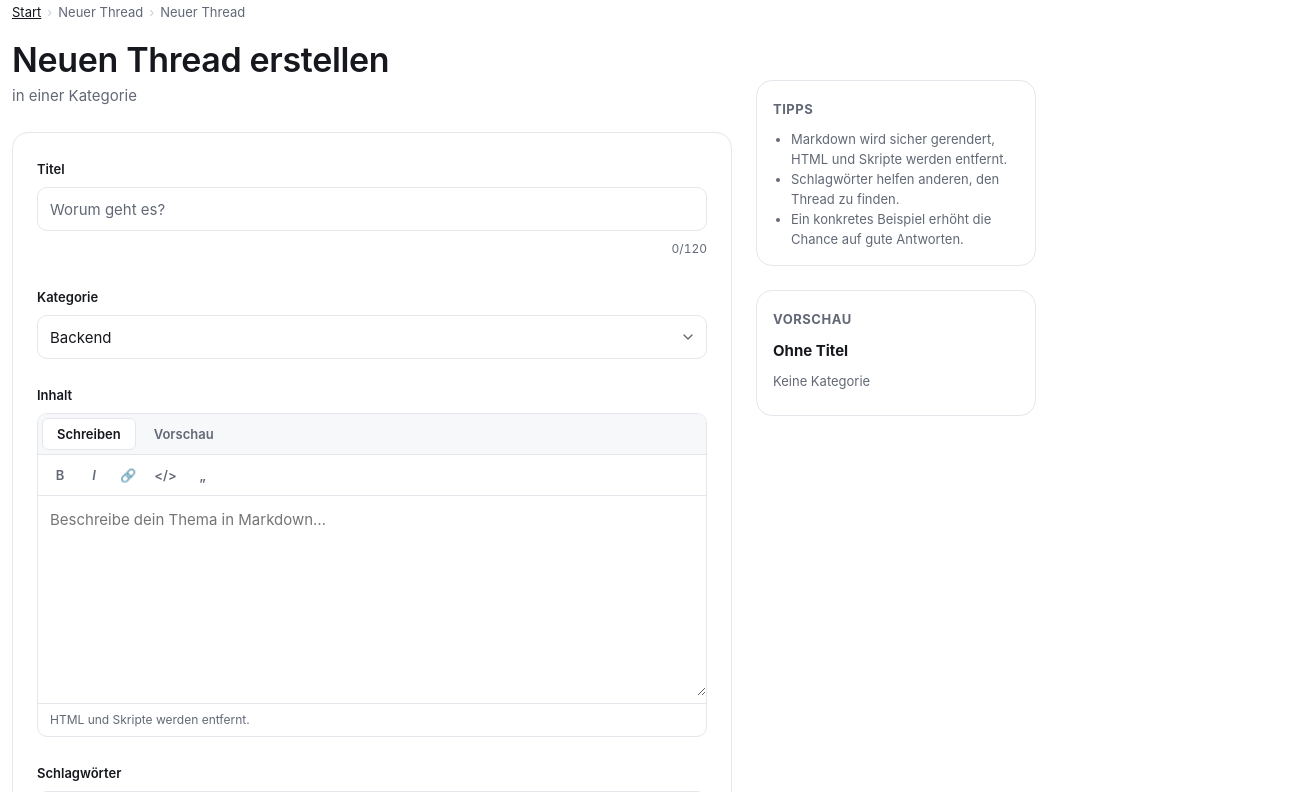
new thread composer › renders the entered markdown in the preview tab
Type "Hallo **Welt**" into the text box labelled "Inhalt" at (372, 596), box [38,496,706,696]
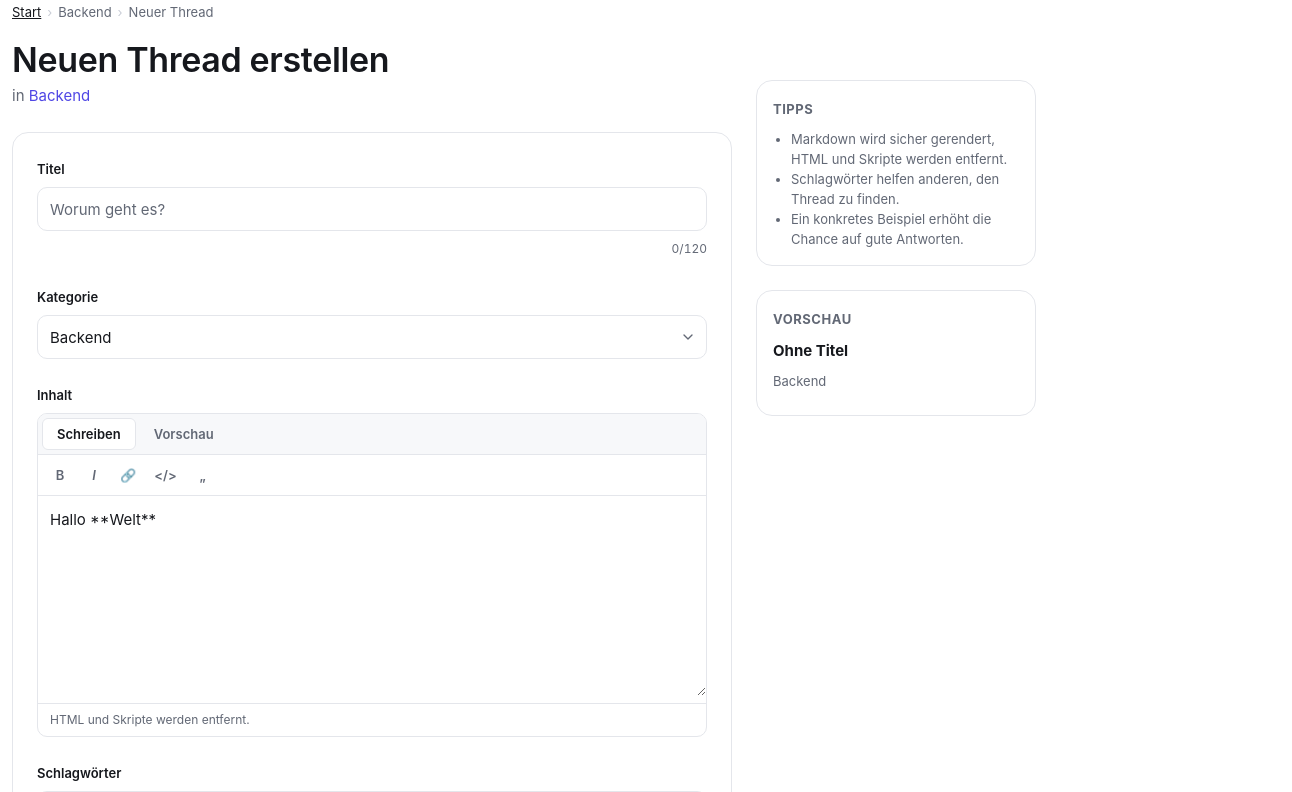
Click the tab "Vorschau" at (184, 434), box [140,418,228,450]
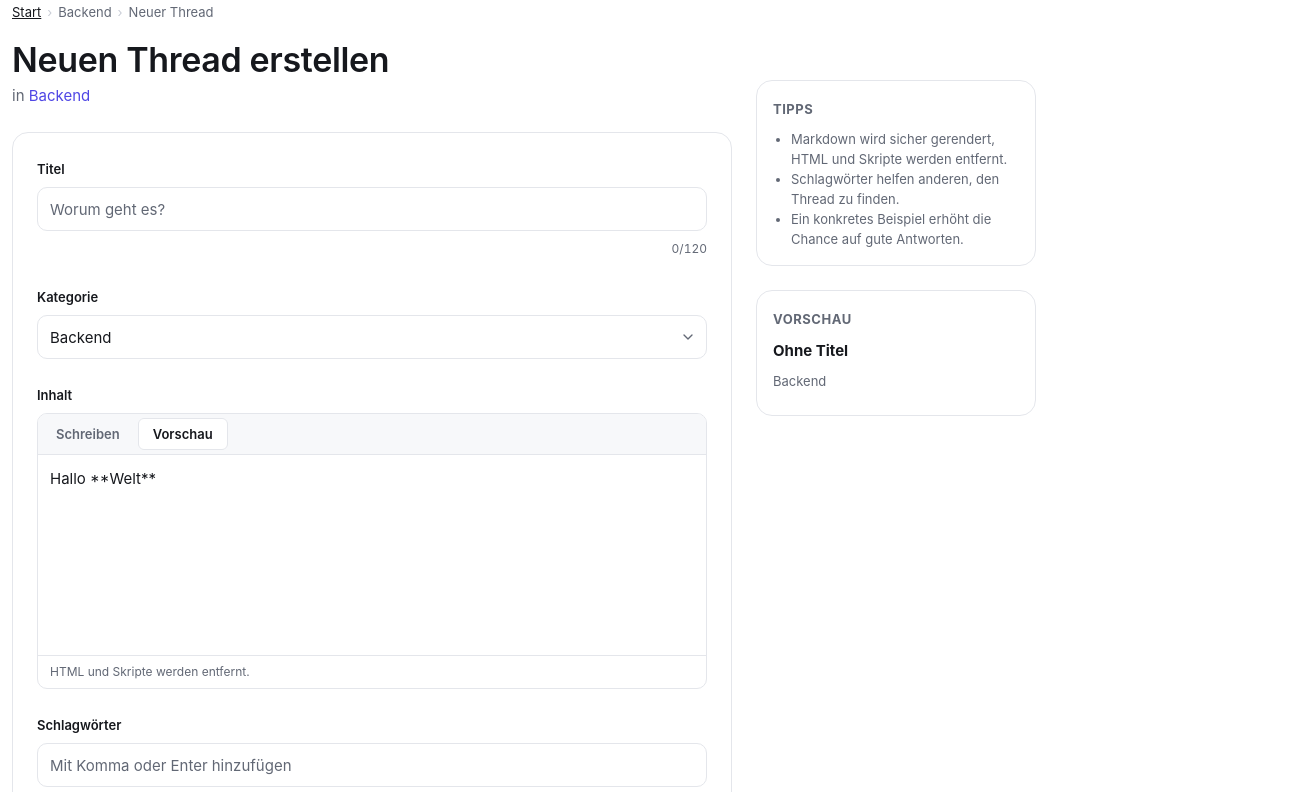
Expected: the text "Hallo **Welt**" is shown, [50,469,156,488]
